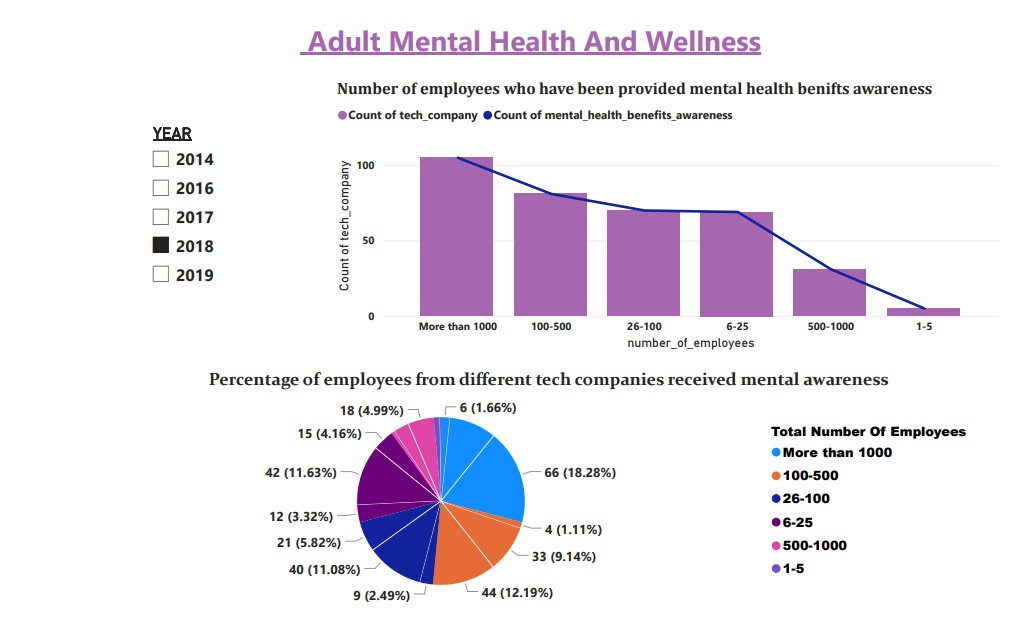

The dashboard page shown, as its layout file describes it:
{"tool":"powerbi","page":{"name":"Page 1","canvas":[1280,720],"ordinal":0},"visuals":[{"type":"group","id":"g1","title":"Group 2","box":[145.3,87.7,1024.4,609.1],"z":0},{"type":"group","id":"g2","title":"Group 1","box":[185,87.7,984.7,315.5],"z":0,"group":"g1"},{"type":"slicer","fields":{"Values":["Mental health in tech survey 2014-2019.year"]},"box":[185,134.7,194.7,224.9],"z":0,"group":"g2"},{"type":"textbox","box":[38.4,15.1,1155.8,52.1],"z":1000},{"type":"lineStackedColumnComboChart","title":"Number of employees who have been provided mental health benifts awareness","fields":{"Category":["Mental health in tech survey 2014-2019.number_of_employees"],"Y":["CountNonNull(Mental health in tech survey 2014-2019.tech_company)"],"Y2":["CountNonNull(Mental health in tech survey 2014-2019.mental_health_benefits_awareness)"]},"box":[403.3,87.7,766.4,315.5],"z":1000,"group":"g2"},{"type":"pieChart","title":"Percentage of employees from different tech companies received mental awareness","fields":{"Category":["Mental health in tech survey 2014-2019.number_of_employees"],"Y":["CountNonNull(Mental health in tech survey 2014-2019.tech_company)"],"Series":["Mental health in tech survey 2014-2019.mental_health_benefits_awareness"]},"box":[145.3,418.5,1010.5,278.3],"z":1000,"group":"g1"}]}

Visuals, with their boxes on the page's 1280x720 design canvas (x1, y1, x2, y2). These are canvas units, not pixel positions in the 1011x618 screenshot, which may show the page scaled, cropped or inside an application window:
"Group 2" group: x1=145 y1=88 x2=1170 y2=697
"Group 1" group: x1=185 y1=88 x2=1170 y2=403
slicer - Mental health in tech survey 2014-2019.year: x1=185 y1=135 x2=380 y2=360
textbox: x1=38 y1=15 x2=1194 y2=67
"Number of employees who have been provided mental health benifts awareness" lineStackedColumnComboChart: x1=403 y1=88 x2=1170 y2=403
"Percentage of employees from different tech companies received mental awareness" pieChart: x1=145 y1=418 x2=1156 y2=697
